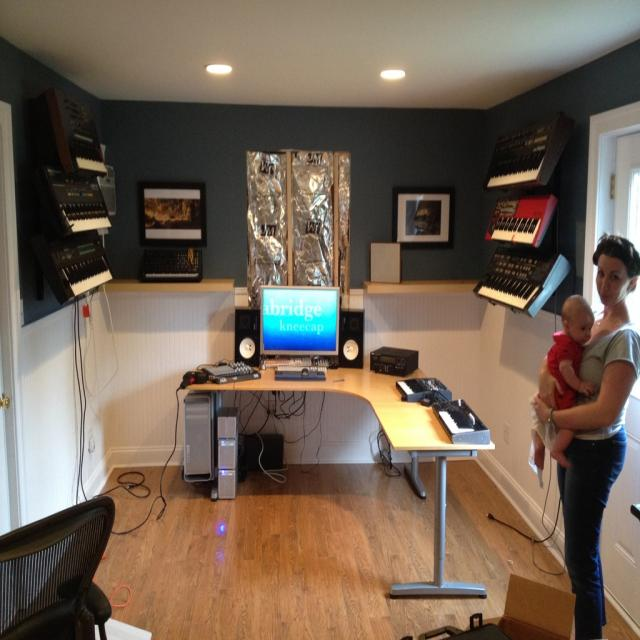chair: (2, 494, 116, 639)
desk: (184, 359, 496, 598)
person: (532, 236, 640, 640)
tv: (260, 286, 340, 358)
